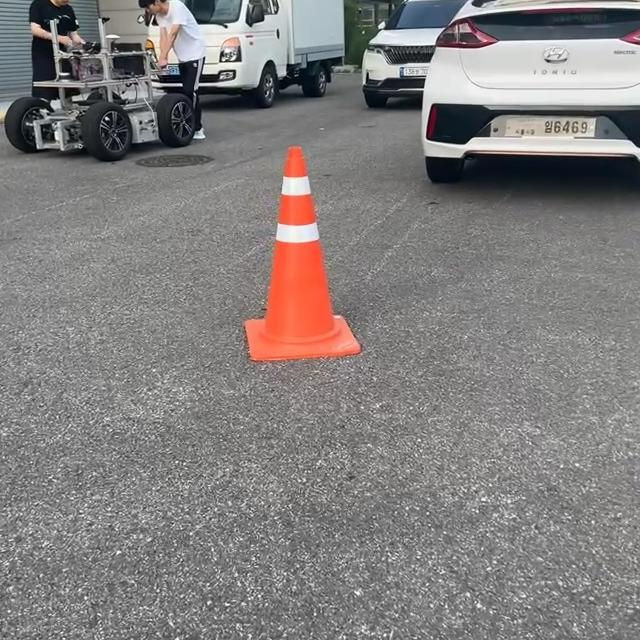fallen_object: (215, 142, 432, 400)
